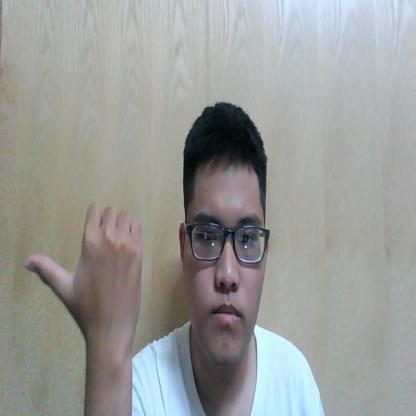right: (26, 203, 143, 348)
